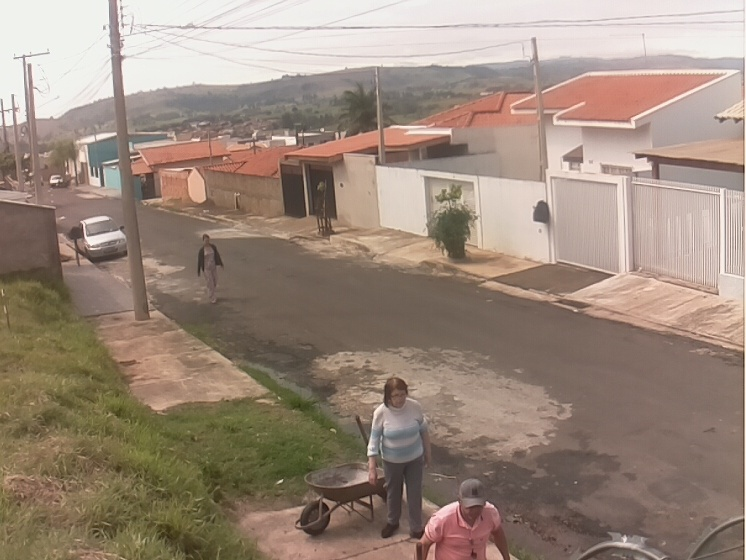person: (366, 377, 429, 538), (417, 476, 512, 560), (196, 233, 226, 305)
